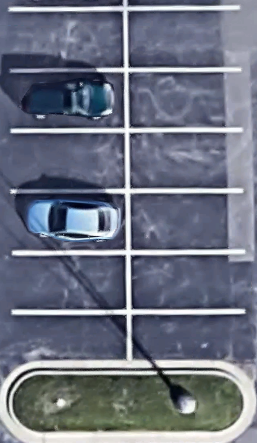Occupied: (11, 191, 128, 253), (10, 70, 127, 129)
Vacant: (10, 129, 127, 193), (10, 9, 126, 71), (128, 191, 244, 253), (126, 70, 243, 131), (127, 130, 243, 191), (126, 8, 240, 70), (11, 254, 129, 312), (129, 254, 244, 312), (127, 310, 245, 365), (11, 312, 128, 363)
